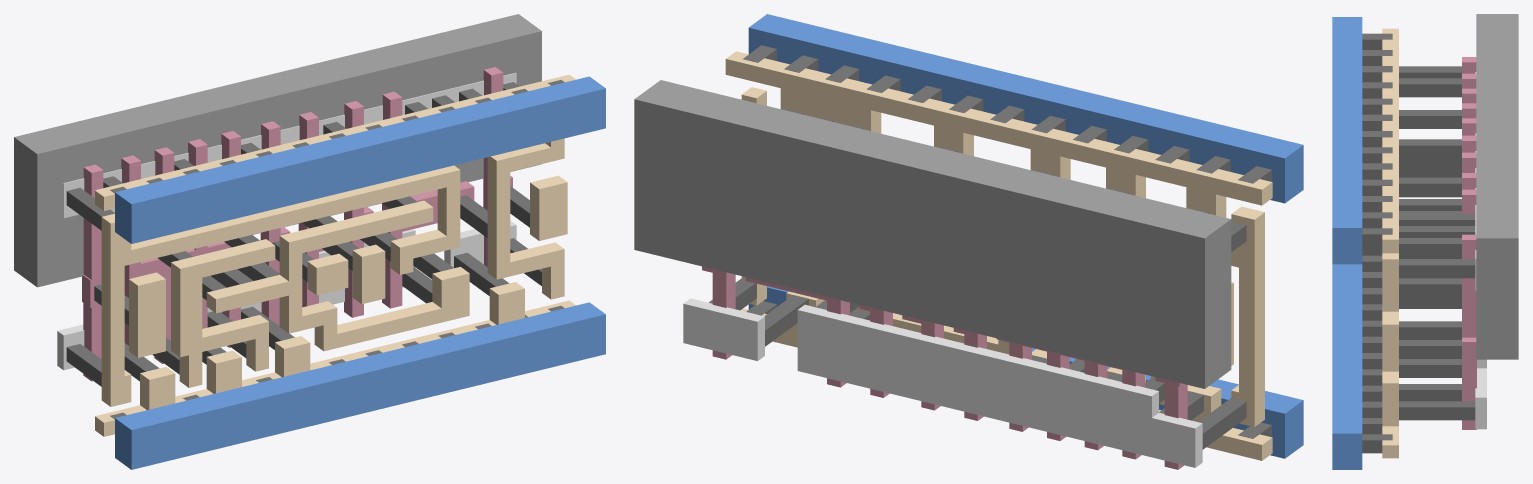
The model's file is sky130_fd_sc_hd__and4bb_4.gds.gltf.
3 views of the same model, side by side, from view 1: azimuth 30°, elevation 25°; view 2: azimuth 150°, elevation 25°; view 3: azimuth 270°, elevation 25° (orthographic). The views are drawn at different scales.
Visible parts, largest first — view 1: sky130_fd_sc_hd__and4bb_4_li1, sky130_fd_sc_hd__and4bb_4_met1, sky130_fd_sc_hd__and4bb_4_nwell, sky130_fd_sc_hd__and4bb_4_poly, sky130_fd_sc_hd__and4bb_4_licon, sky130_fd_sc_hd__and4bb_4_diff, sky130_fd_sc_hd__and4bb_4_mcon; view 2: sky130_fd_sc_hd__and4bb_4_nwell, sky130_fd_sc_hd__and4bb_4_diff, sky130_fd_sc_hd__and4bb_4_li1, sky130_fd_sc_hd__and4bb_4_met1, sky130_fd_sc_hd__and4bb_4_poly, sky130_fd_sc_hd__and4bb_4_mcon, sky130_fd_sc_hd__and4bb_4_licon; view 3: sky130_fd_sc_hd__and4bb_4_licon, sky130_fd_sc_hd__and4bb_4_nwell, sky130_fd_sc_hd__and4bb_4_met1, sky130_fd_sc_hd__and4bb_4_mcon, sky130_fd_sc_hd__and4bb_4_li1, sky130_fd_sc_hd__and4bb_4_poly, sky130_fd_sc_hd__and4bb_4_diff.
Part boxes in pixels (x1,y1,x2,y2): sky130_fd_sc_hd__and4bb_4_li1: (95,74,575,436); sky130_fd_sc_hd__and4bb_4_met1: (115,76,605,469); sky130_fd_sc_hd__and4bb_4_nwell: (14,14,541,287); sky130_fd_sc_hd__and4bb_4_poly: (82,67,512,381); sky130_fd_sc_hd__and4bb_4_licon: (66,82,541,386); sky130_fd_sc_hd__and4bb_4_diff: (57,73,516,370); sky130_fd_sc_hd__and4bb_4_mcon: (110,80,564,419); sky130_fd_sc_hd__and4bb_4_nwell: (634,80,1231,388); sky130_fd_sc_hd__and4bb_4_diff: (683,298,1202,467); sky130_fd_sc_hd__and4bb_4_li1: (725,51,1272,460); sky130_fd_sc_hd__and4bb_4_met1: (748,14,1303,458); sky130_fd_sc_hd__and4bb_4_poly: (702,266,1187,469); sky130_fd_sc_hd__and4bb_4_mcon: (743,45,1271,438); sky130_fd_sc_hd__and4bb_4_licon: (709,109,1246,449); sky130_fd_sc_hd__and4bb_4_licon: (1399,66,1475,420); sky130_fd_sc_hd__and4bb_4_nwell: (1476,14,1518,359); sky130_fd_sc_hd__and4bb_4_met1: (1332,17,1362,469); sky130_fd_sc_hd__and4bb_4_mcon: (1362,33,1392,453); sky130_fd_sc_hd__and4bb_4_li1: (1382,28,1398,458); sky130_fd_sc_hd__and4bb_4_poly: (1462,57,1476,429); sky130_fd_sc_hd__and4bb_4_diff: (1475,72,1486,429).
Bounding box in the file's own units: 6.36 × 3.2 × 2.24.
